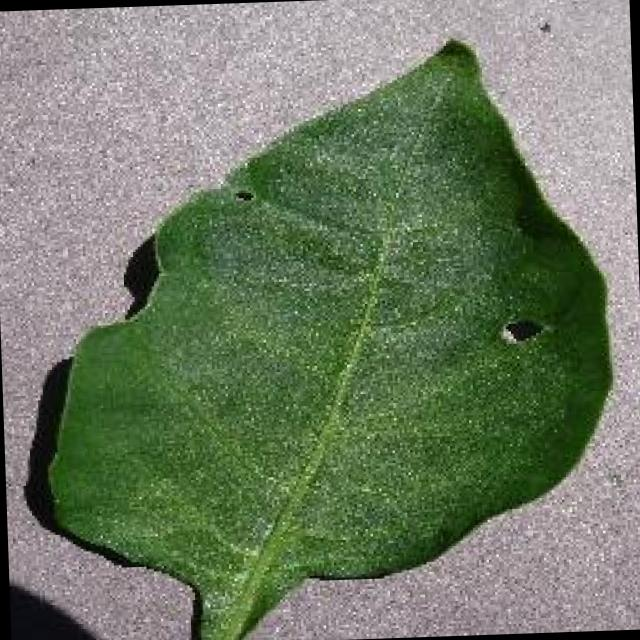Chilli_Healthy: (27, 27, 623, 640)
